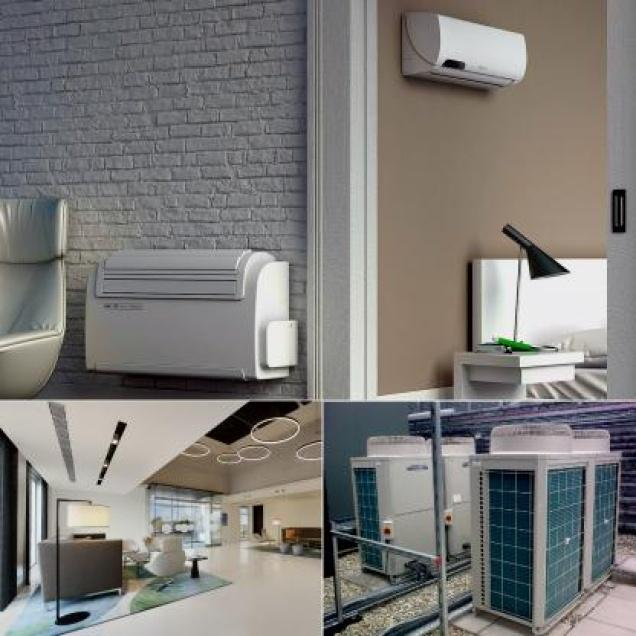AC: (399, 10, 527, 90)
